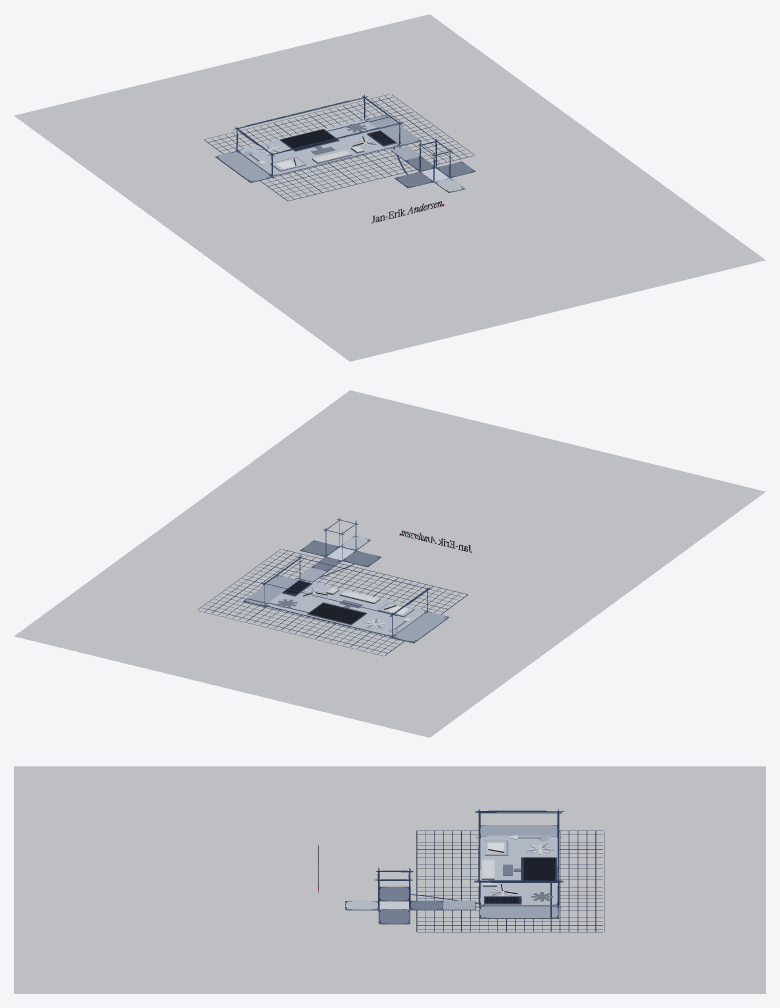
The model's file is eroeffnung-hochkant.glb.
3 renders of one model, top to bottom at view 1: azimuth 30°, elevation 25°; view 2: azimuth 150°, elevation 25°; view 3: azimuth 270°, elevation 25°, orthographic. The views are drawn at different scales.
Visible parts, largest first — view 1: Bogen, Bau_Welt, D_Platte, D_BeinL, D_BeinR, M_Schirm; view 2: Bogen, Bau_Welt, D_Platte, D_BeinL, M_Schirm, D_BeinR; view 3: Bogen, Bau_Welt, D_Platte, D_BeinR, M_Schirm, D_BeinL, T_Links, T_Rechts.
Part boxes in pixels (x1,y1,x2,y2): Bogen: [14, 14, 765, 361]; Bau_Welt: [204, 94, 475, 223]; D_Platte: [237, 119, 399, 176]; D_BeinL: [215, 151, 271, 182]; D_BeinR: [366, 115, 421, 146]; M_Schirm: [279, 129, 339, 151]; Bogen: [14, 390, 765, 737]; Bau_Welt: [198, 517, 469, 656]; D_Platte: [265, 579, 427, 636]; D_BeinL: [392, 611, 448, 642]; M_Schirm: [307, 602, 367, 625]; D_BeinR: [243, 575, 298, 606]; Bogen: [14, 766, 765, 993]; Bau_Welt: [318, 809, 604, 932]; D_Platte: [480, 835, 557, 906]; D_BeinR: [479, 906, 558, 918]; M_Schirm: [521, 857, 556, 880]; D_BeinL: [480, 825, 557, 835]; T_Links: [379, 886, 408, 901]; T_Rechts: [379, 909, 409, 923].
Size of what is drawn, in the model's own units: 30 by 2.34 by 42.
29 materials, 12 textured.
